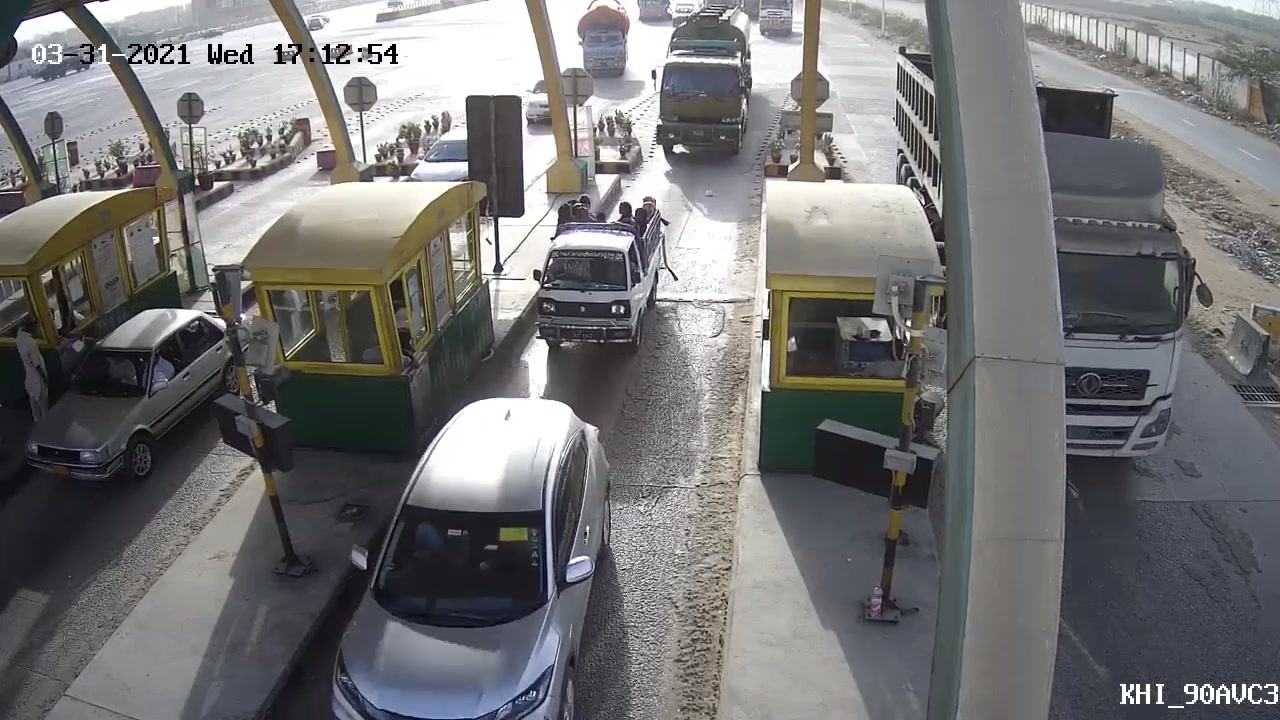F1: (518, 183, 686, 370)
